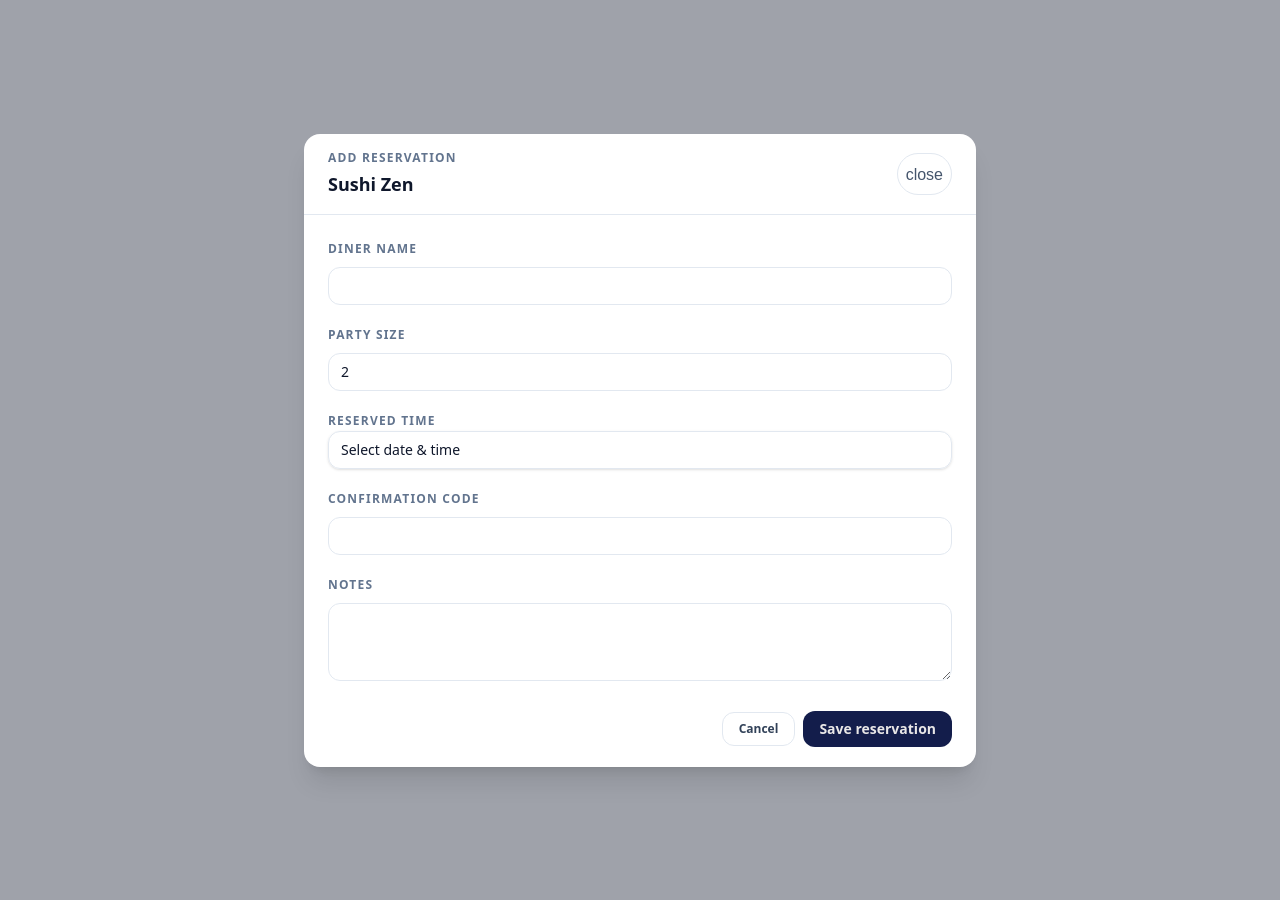
Test: ReservationModal › shows validation errors when required fields are missing
Click the button "Save reservation" at point(878, 728), box [803,710,952,746]
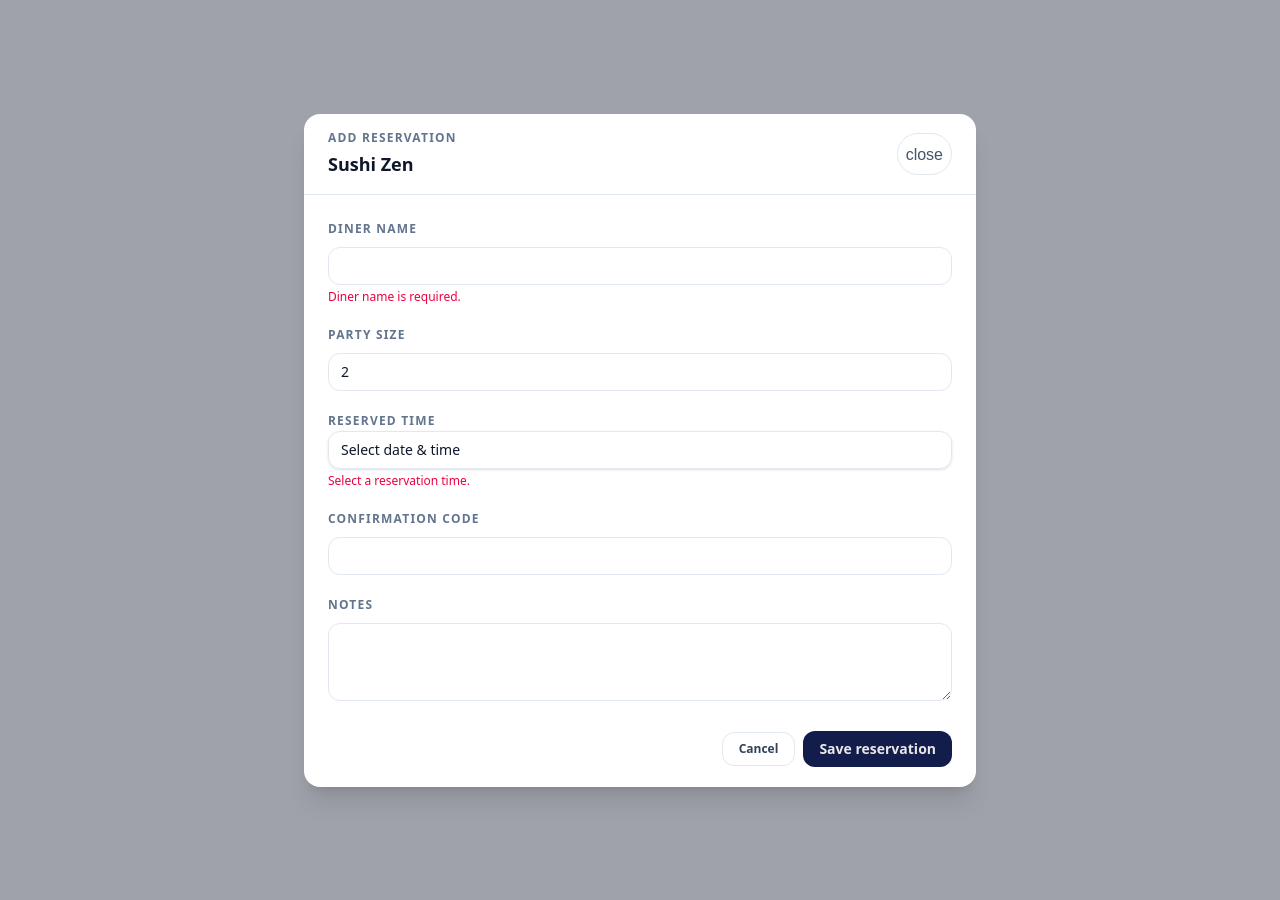
expect the text "Diner name is required." is shown: met, box [328,288,461,304]
expect the text "Select a reservation time." is shown: met, box [328,472,470,488]
